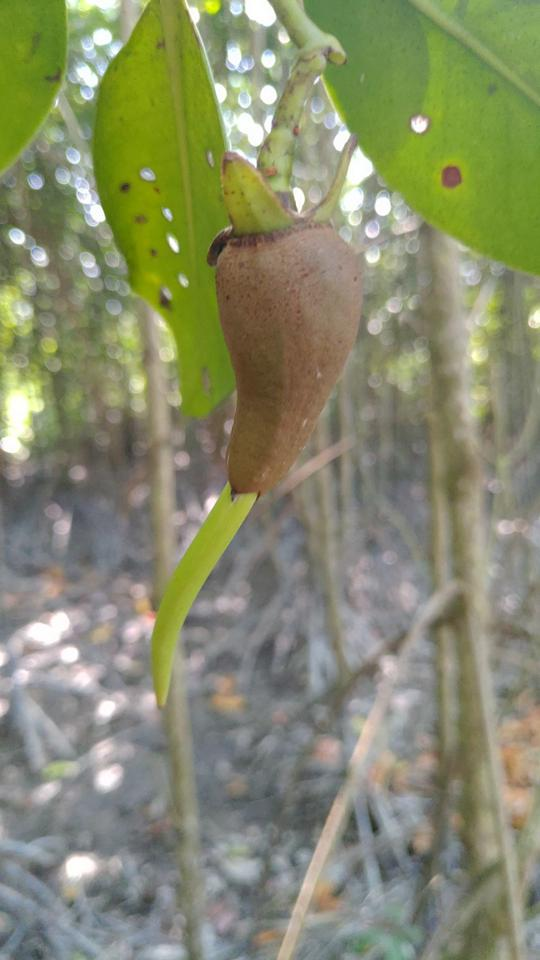mentah: (117, 166, 375, 716)
